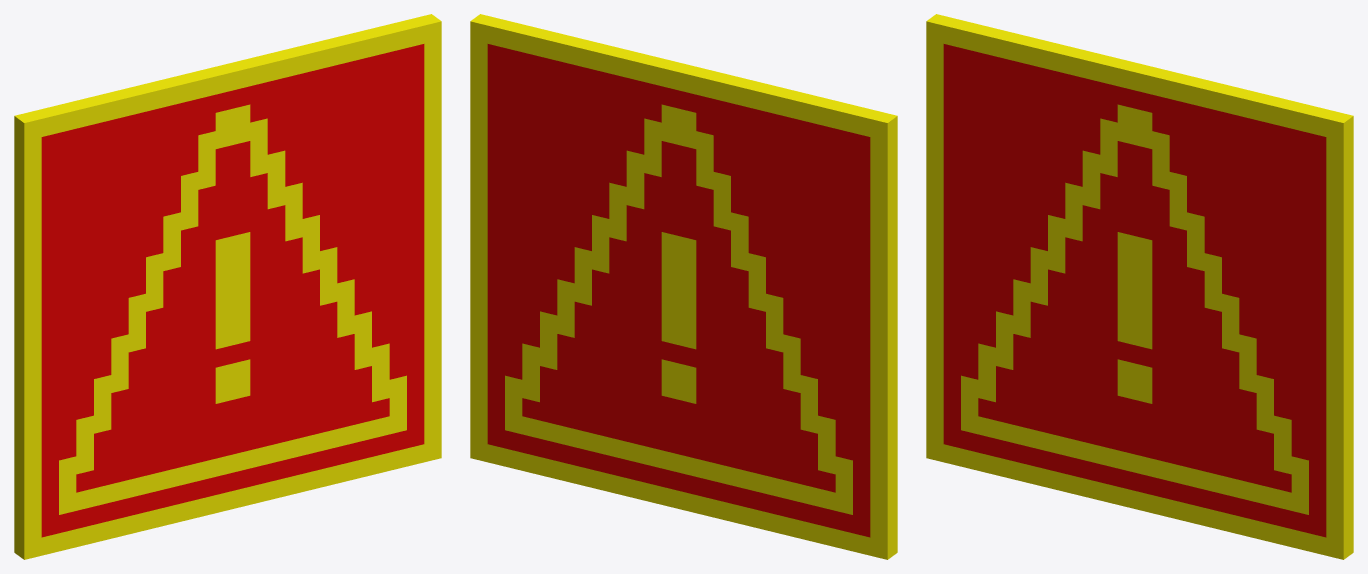
File: placaperigro1-0.obj
The picture shows the model from 3 angles, left to right: view 1: azimuth 30°, elevation 25°; view 2: azimuth 150°, elevation 25°; view 3: azimuth 330°, elevation 25°; orthographic projection.
Bounding box in the file's own units: 2.4 × 2.4 × 0.1.
1 material, 1 textured.
